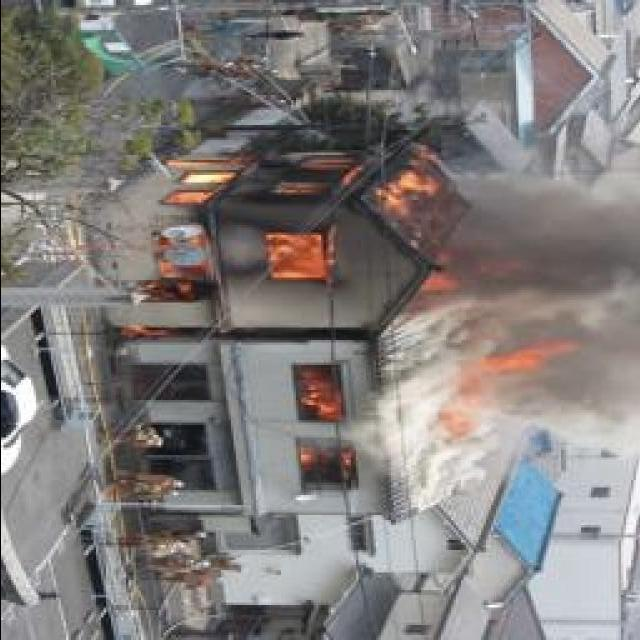Fire: (128, 150, 466, 306), (290, 366, 362, 492), (458, 336, 580, 389)
